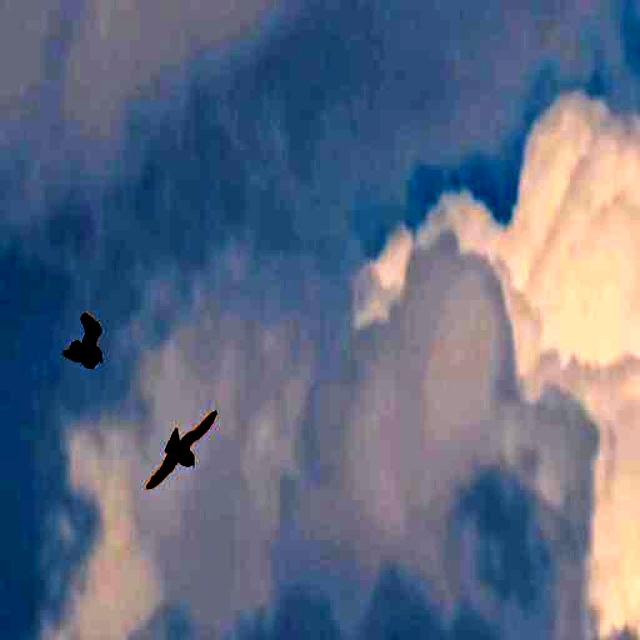airplane: (140, 391, 219, 496), (56, 279, 111, 380)
